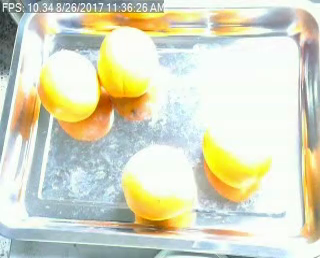Orange: (120, 144, 197, 219), (37, 49, 99, 121), (201, 122, 270, 186), (98, 25, 157, 97)
